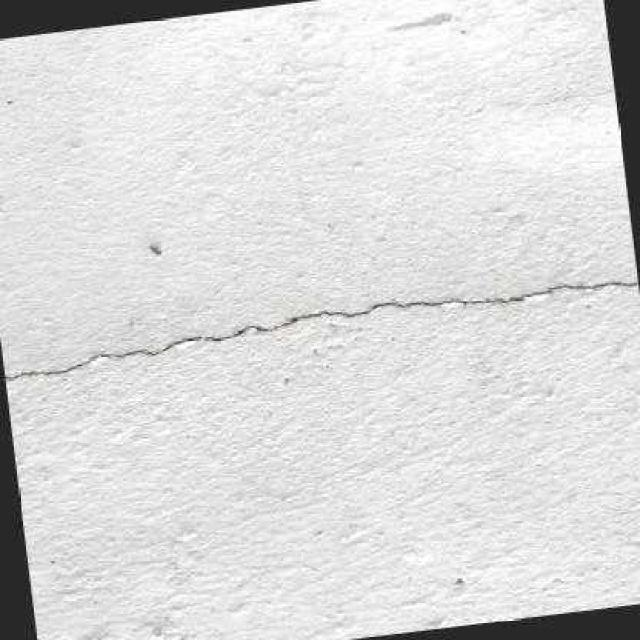D00: (4, 277, 638, 378)
